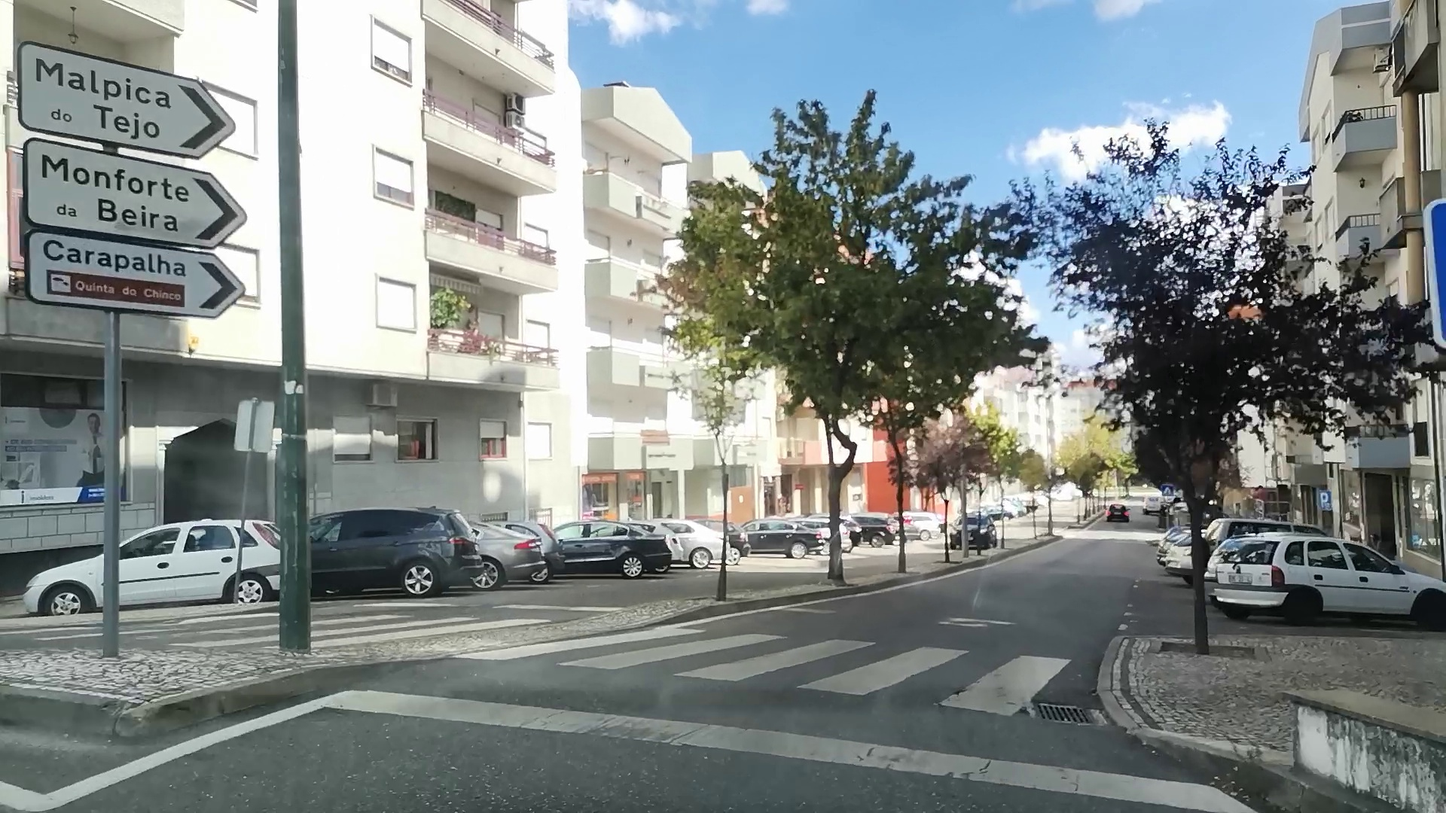Stairs: (466, 619, 1074, 718), (10, 607, 471, 640)
